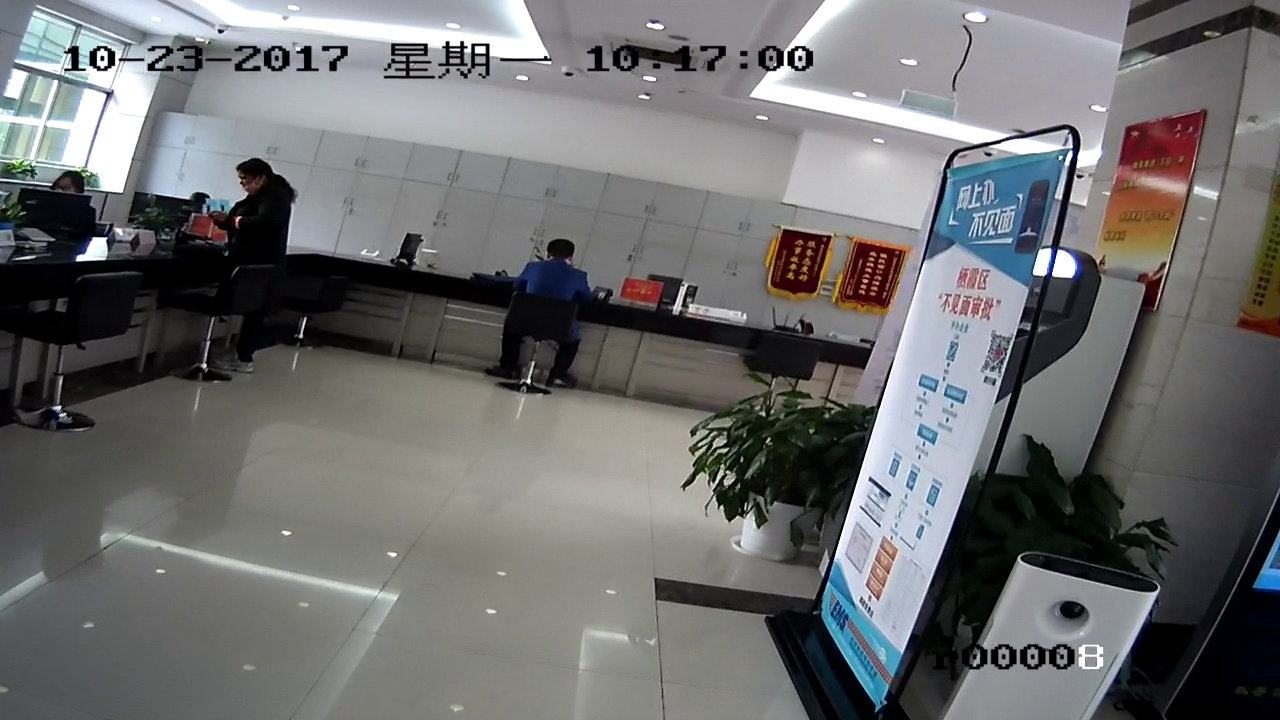billboard: (844, 233, 898, 311), (777, 233, 816, 300)
chair: (31, 263, 135, 448), (178, 272, 276, 396), (497, 299, 574, 402)
person: (222, 158, 290, 269), (522, 241, 596, 301), (52, 170, 86, 217)
pot: (712, 388, 811, 562)
